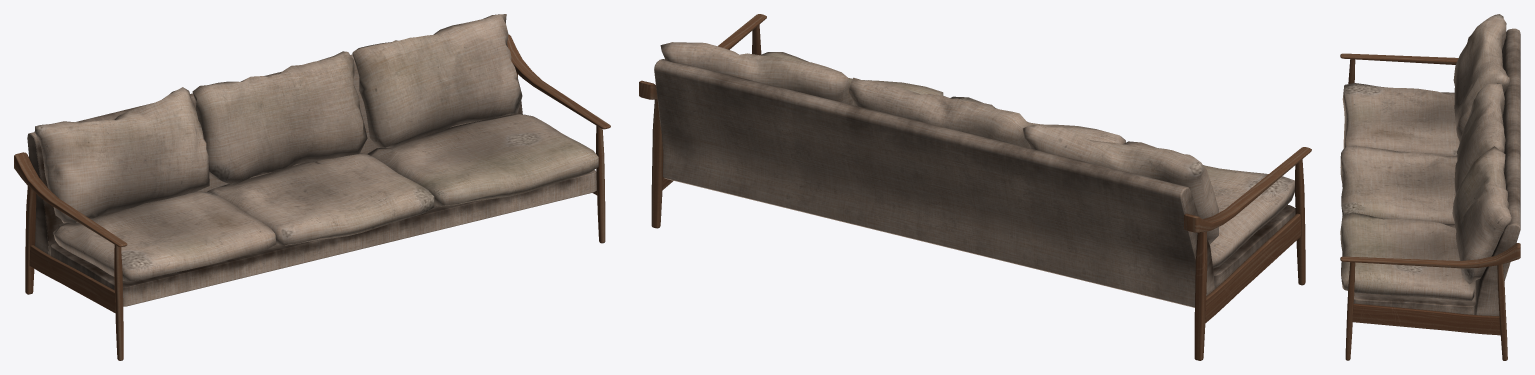
Rendered from sofa.glb.
3 views of the same model, side by side, from view 1: azimuth 30°, elevation 25°; view 2: azimuth 150°, elevation 25°; view 3: azimuth 270°, elevation 25° (orthographic). The views are drawn at different scales.
Parts seen in each view (by area): view 1: Sofa_pillows, Sofa_frame; view 2: Sofa_frame, Sofa_pillows; view 3: Sofa_pillows, Sofa_frame.
Part boxes in pixels (x1,y1,x2,y2): Sofa_pillows: (34,14,598,281); Sofa_frame: (14,34,610,360); Sofa_frame: (639,14,1311,360); Sofa_pillows: (660,42,1294,268); Sofa_pillows: (1340,14,1511,300); Sofa_frame: (1340,28,1520,360).
Size of what is drawn, in the model's own units: 2.34 by 0.7705 by 0.8582.
2 materials, 2 textured.
